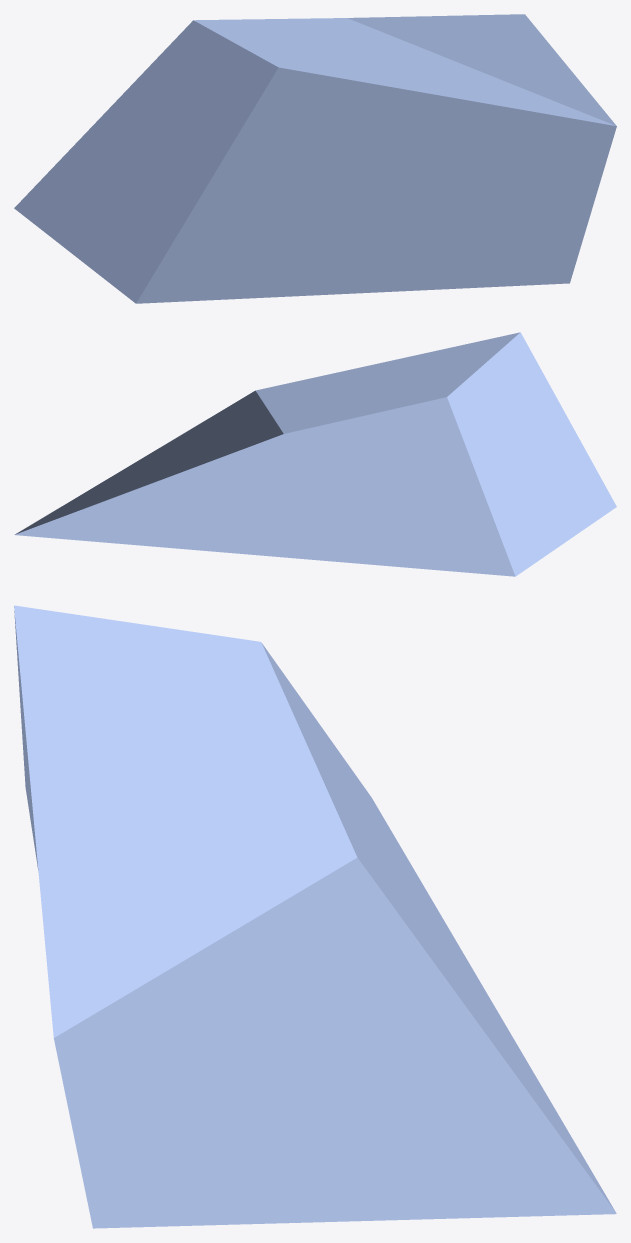
Rendered from Pebble 5.fbx.
3 views of the same model, one above another, from view 1: azimuth 30°, elevation 25°; view 2: azimuth 150°, elevation 25°; view 3: azimuth 270°, elevation 25° (orthographic). The views are drawn at different scales.
Parts seen in each view (by area): view 1: Cube.034; view 2: Cube.034; view 3: Cube.034.
Boxes of the visible parts, left/top/right/bottom form: Cube.034: left=14, top=14, right=616, bottom=303; Cube.034: left=14, top=332, right=616, bottom=576; Cube.034: left=14, top=605, right=616, bottom=1228.
Bounding box in the file's own units: 2.37 × 1.17 × 1.53.
